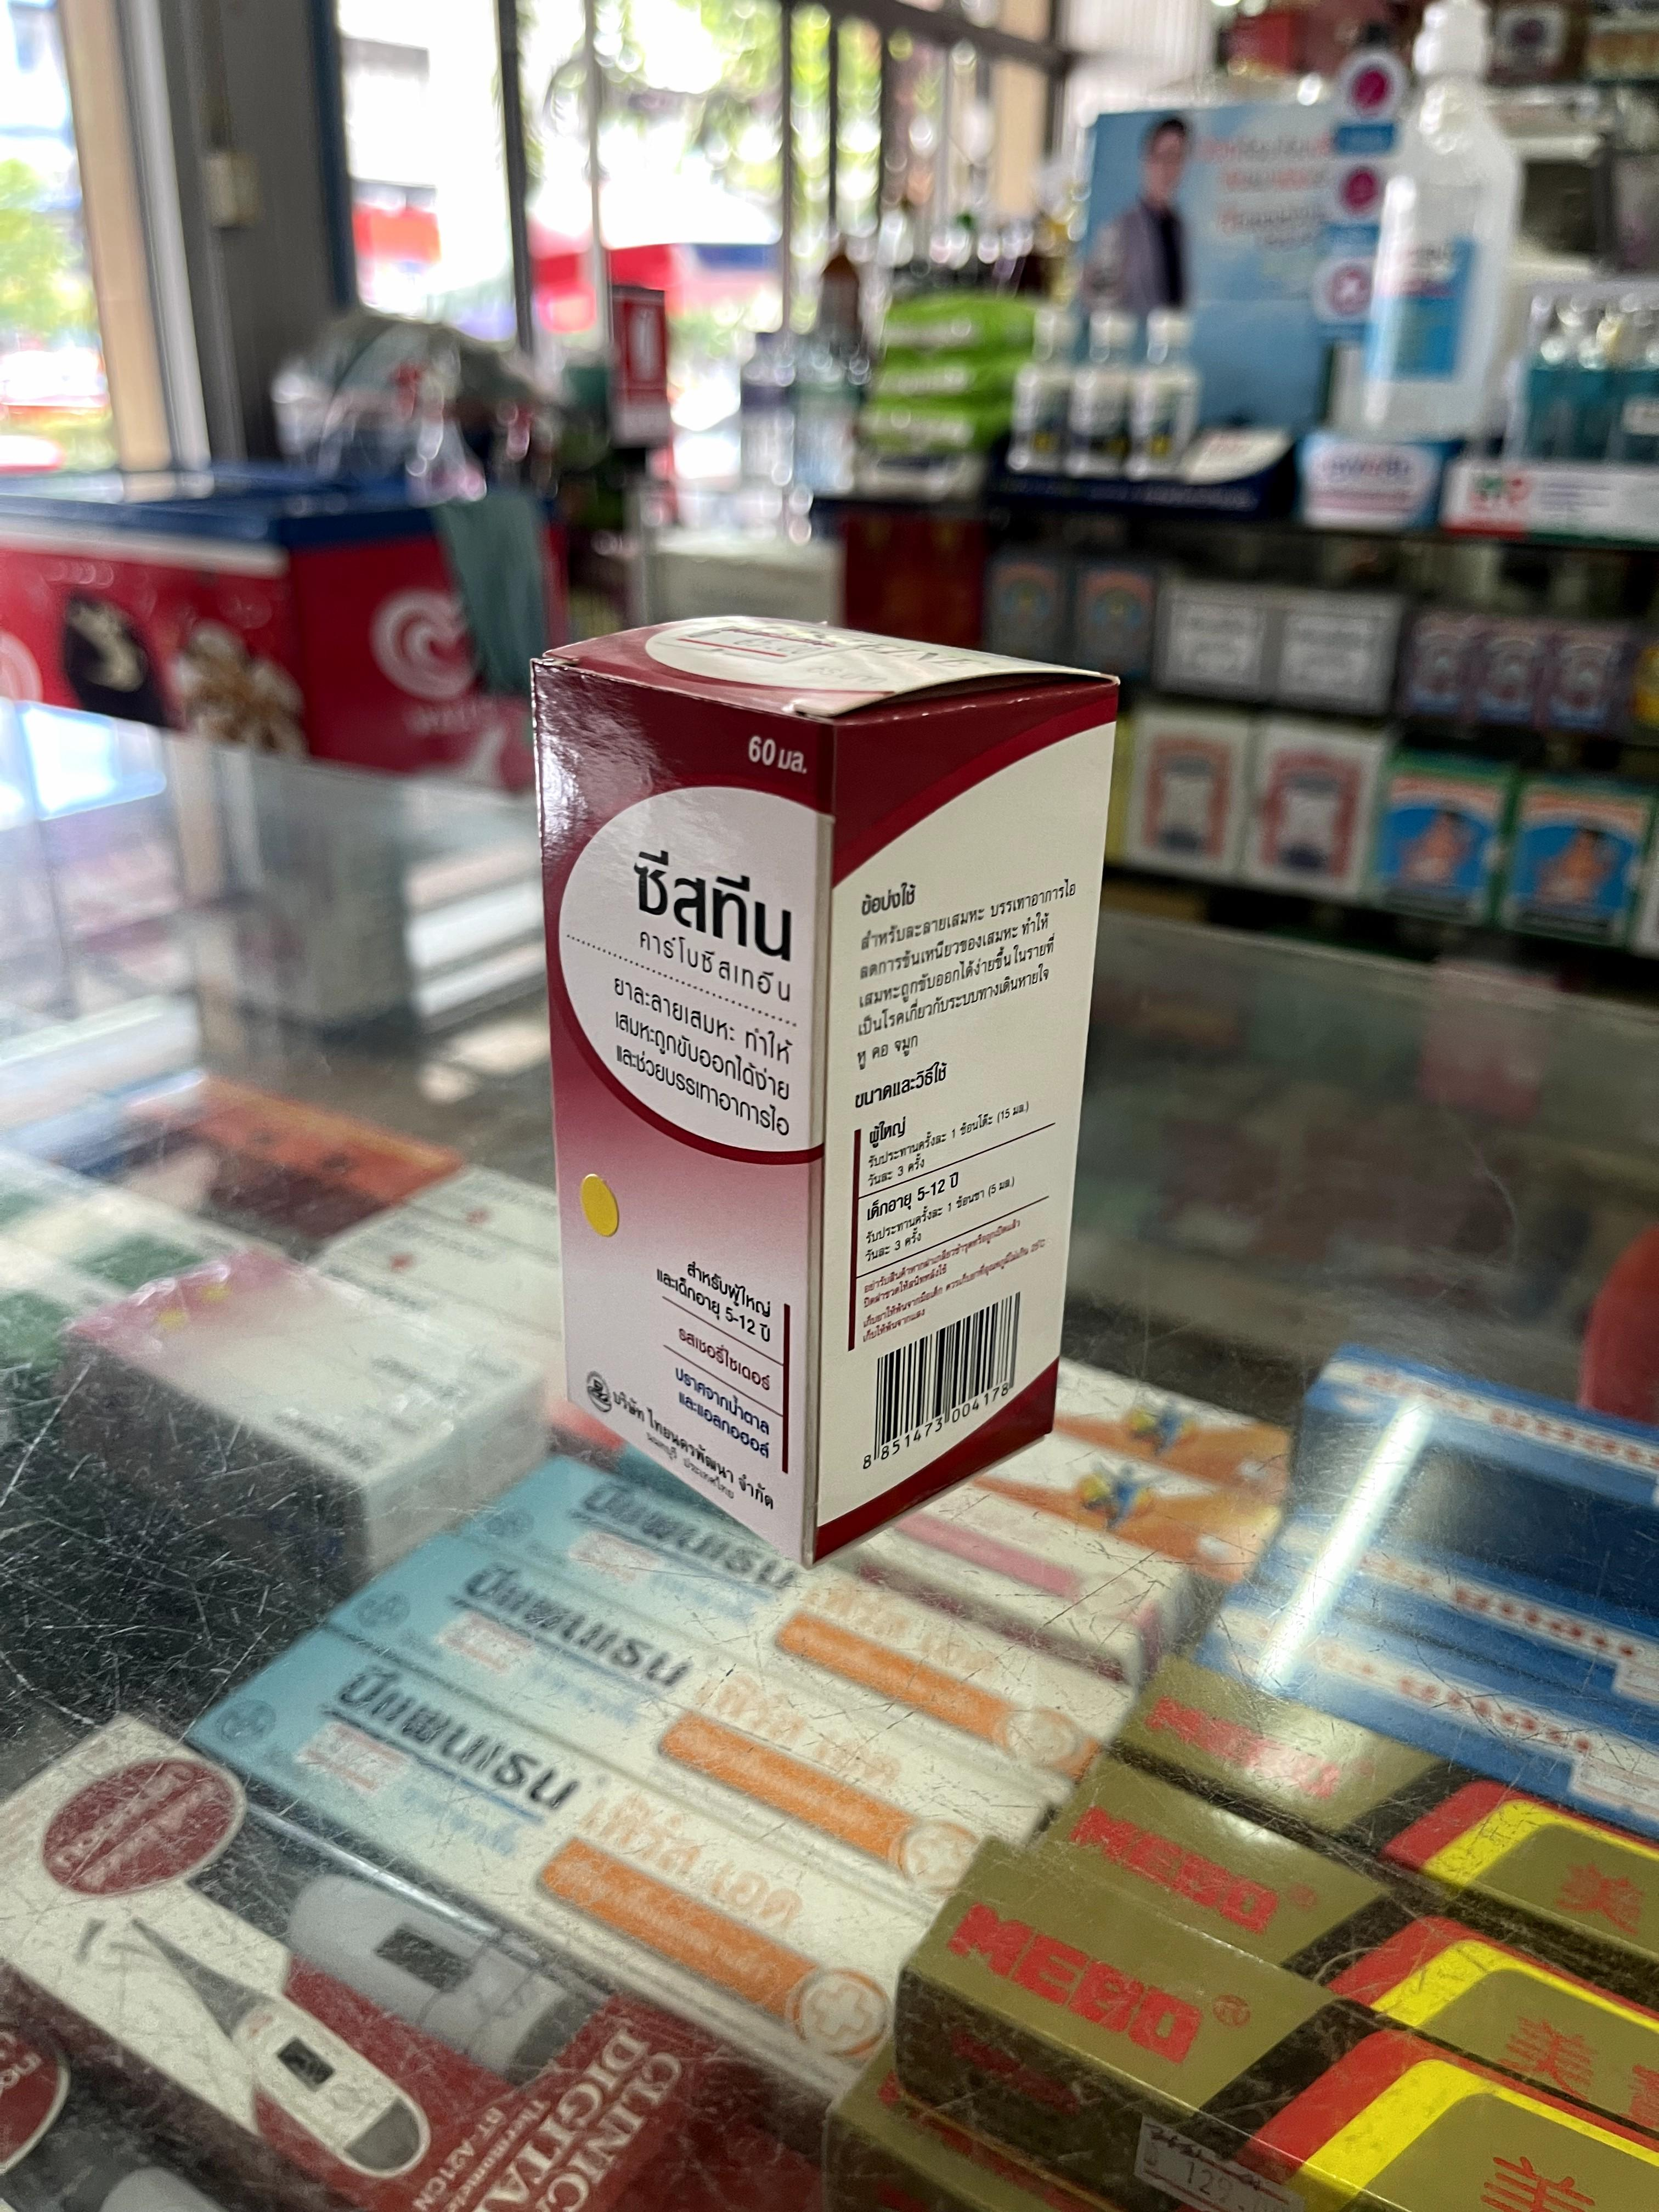Cisteine: (540, 617, 1122, 1564)
